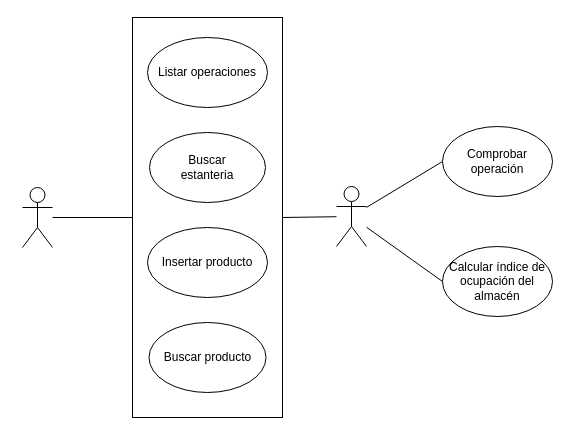
Some shapes in this 570 by 435 pixel diagram are drawn without their labels. The centre of each missing label's shape, as x and y in pixels:
Base de datos: [351,216]
Usuario: [37,217]
